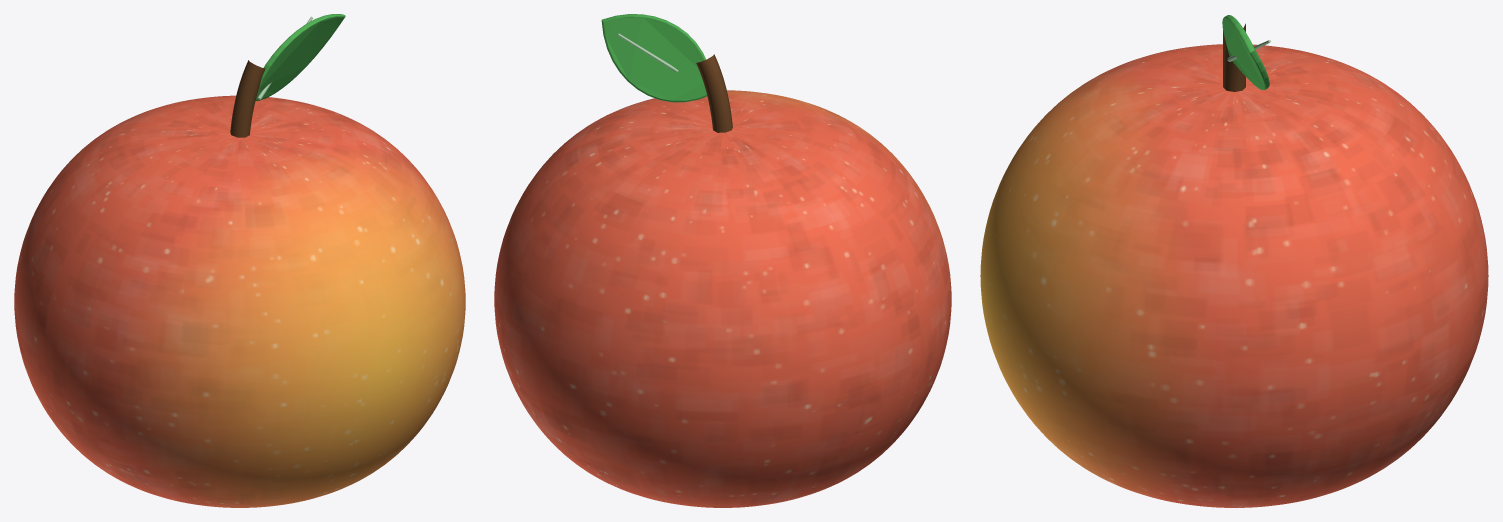
File: nectarine.glb
3 renders of one model, left to right at view 1: azimuth 30°, elevation 25°; view 2: azimuth 150°, elevation 25°; view 3: azimuth 270°, elevation 25°, orthographic. The views are drawn at different scales.
Size of the model in its own units: 0.1522 by 0.1601 by 0.1522.
Materials: 4 (1 with a texture image).
